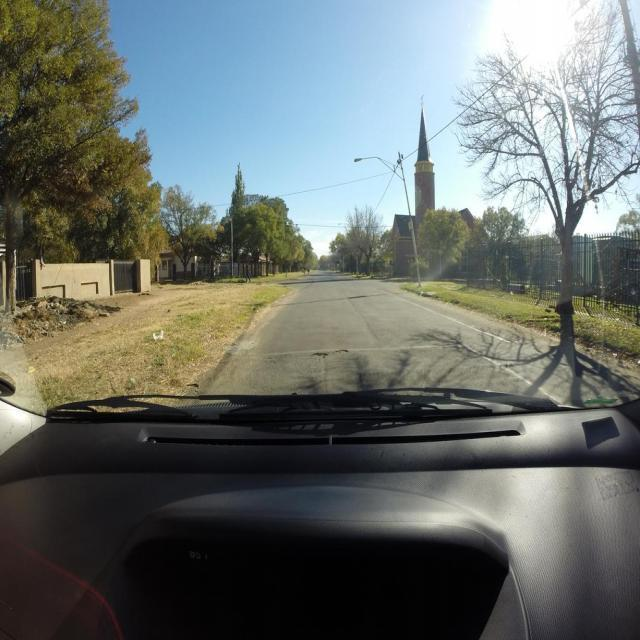pothole: (311, 354, 330, 359), (335, 349, 348, 354)
